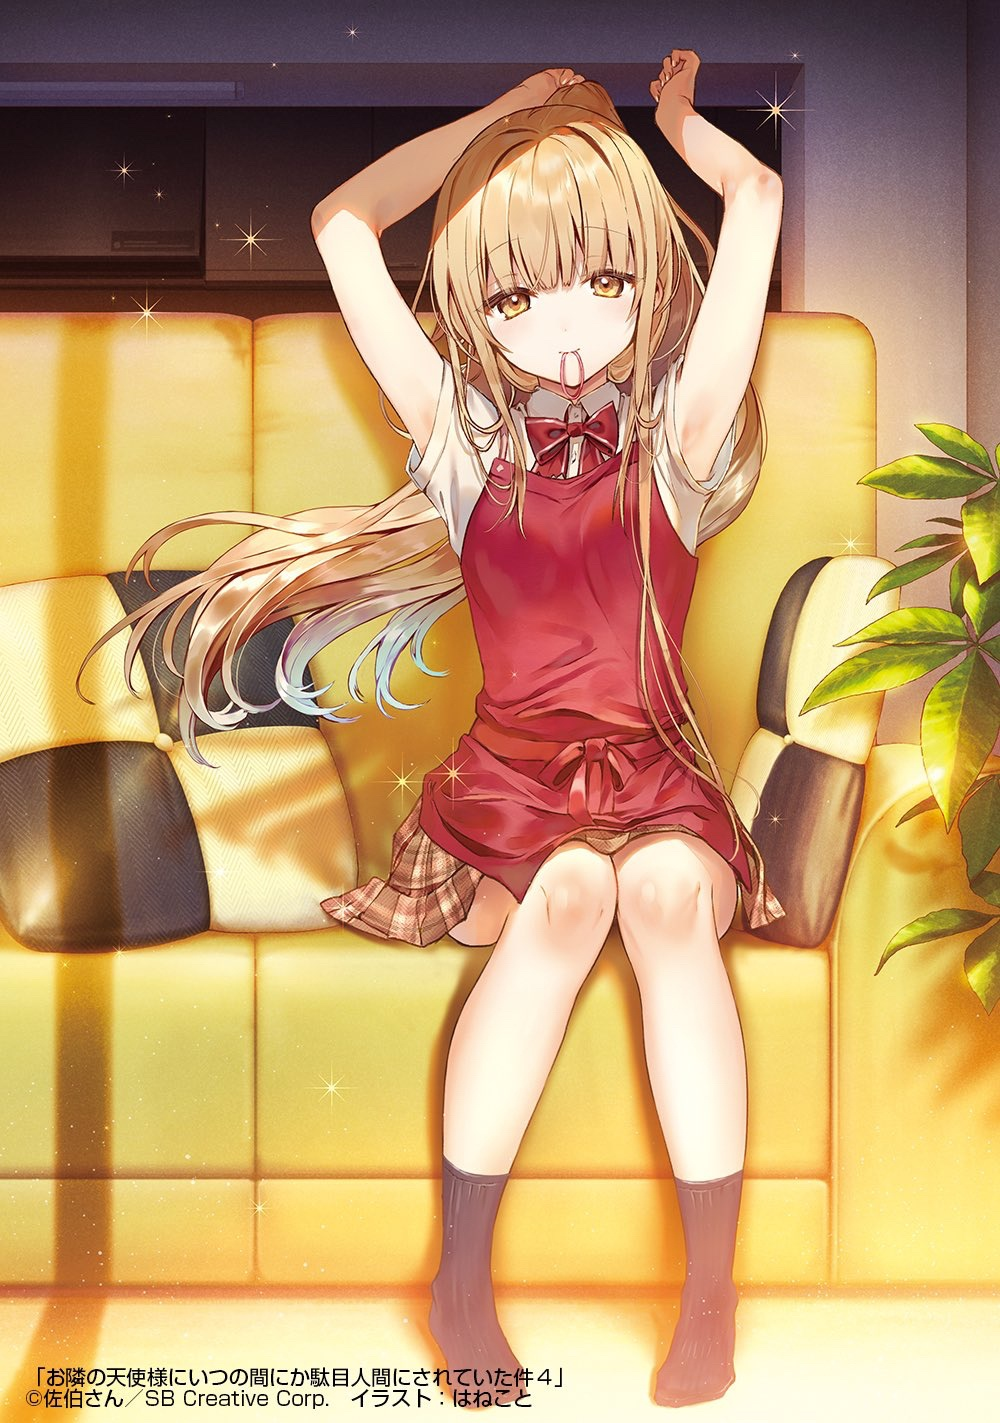纸片人正脸: (420, 88, 690, 405)
